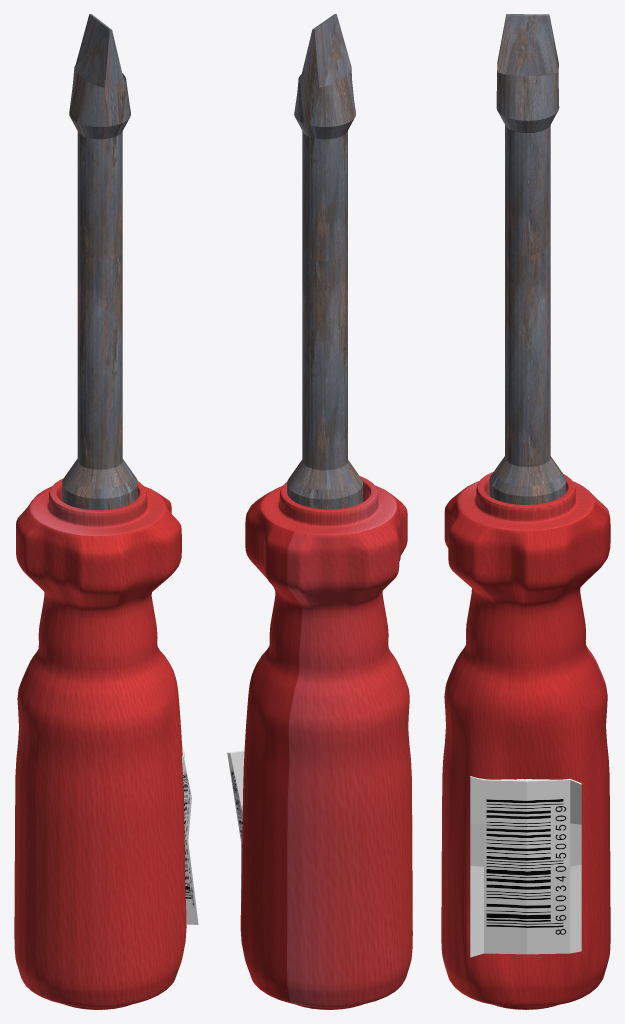
The model's file is Chave_5.fbx.
3 renders of one model, left to right at view 1: azimuth 30°, elevation 25°; view 2: azimuth 150°, elevation 25°; view 3: azimuth 270°, elevation 25°, orthographic.
Parts seen in each view (by area): view 1: Cylinder.007, Cylinder.014, Cube.003; view 2: Cylinder.007, Cylinder.014, Cube.003; view 3: Cylinder.007, Cylinder.014, Cube.003.
Part boxes in pixels (x1=…): Cylinder.007: x1=14, y1=478, x2=186, y2=1009; Cylinder.014: x1=62, y1=14, x2=137, y2=510; Cube.003: x1=181, y1=749, x2=198, y2=924; Cylinder.007: x1=240, y1=476, x2=412, y2=1009; Cylinder.014: x1=287, y1=14, x2=363, y2=509; Cube.003: x1=227, y1=749, x2=244, y2=901; Cylinder.007: x1=441, y1=472, x2=610, y2=1009; Cylinder.014: x1=489, y1=14, x2=566, y2=504; Cube.003: x1=470, y1=776, x2=581, y2=957.
Size of the model in its own units: 189 by 1192 by 187.
Materials: 3 (3 with a texture image).
